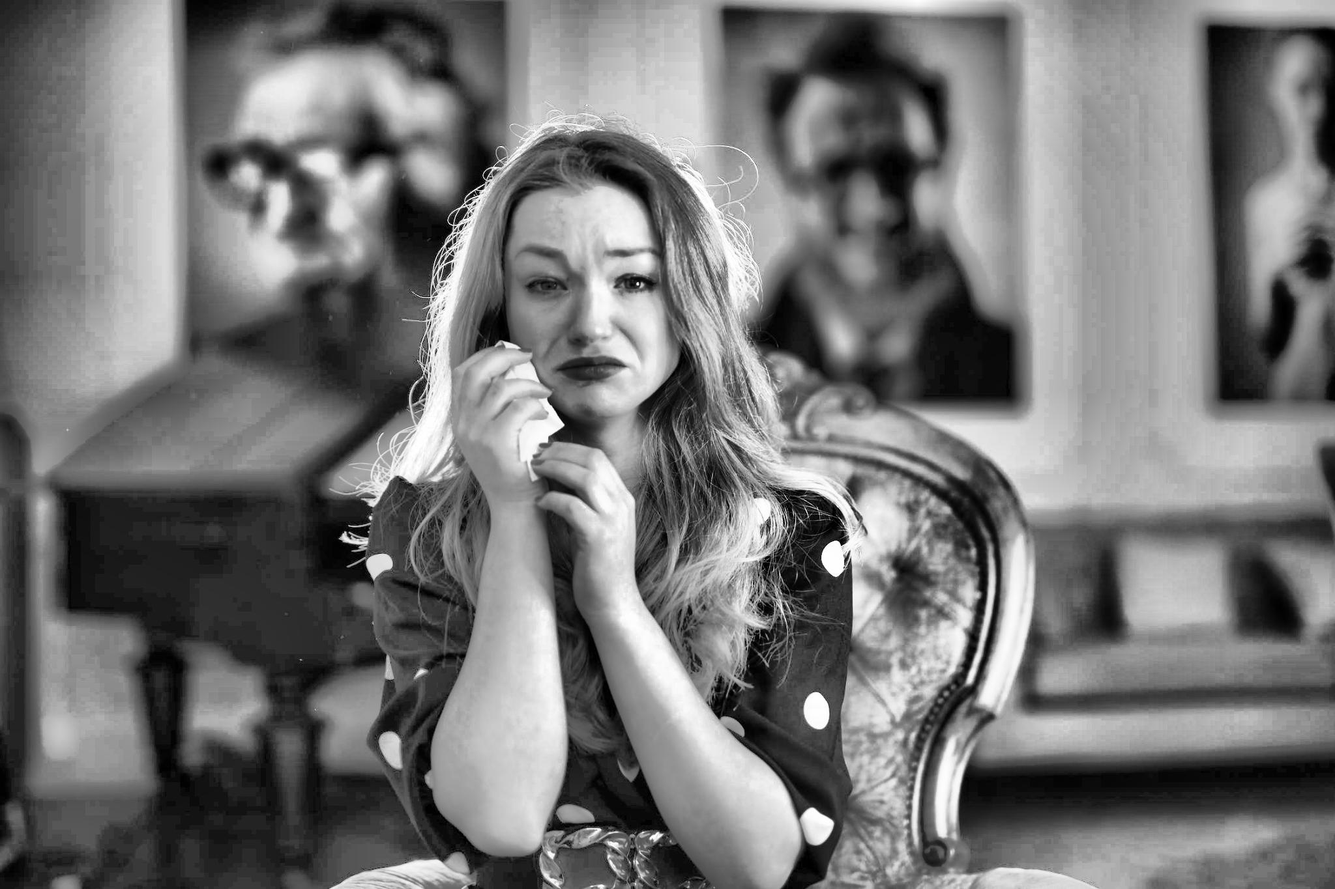sad: (512, 184, 682, 417)
